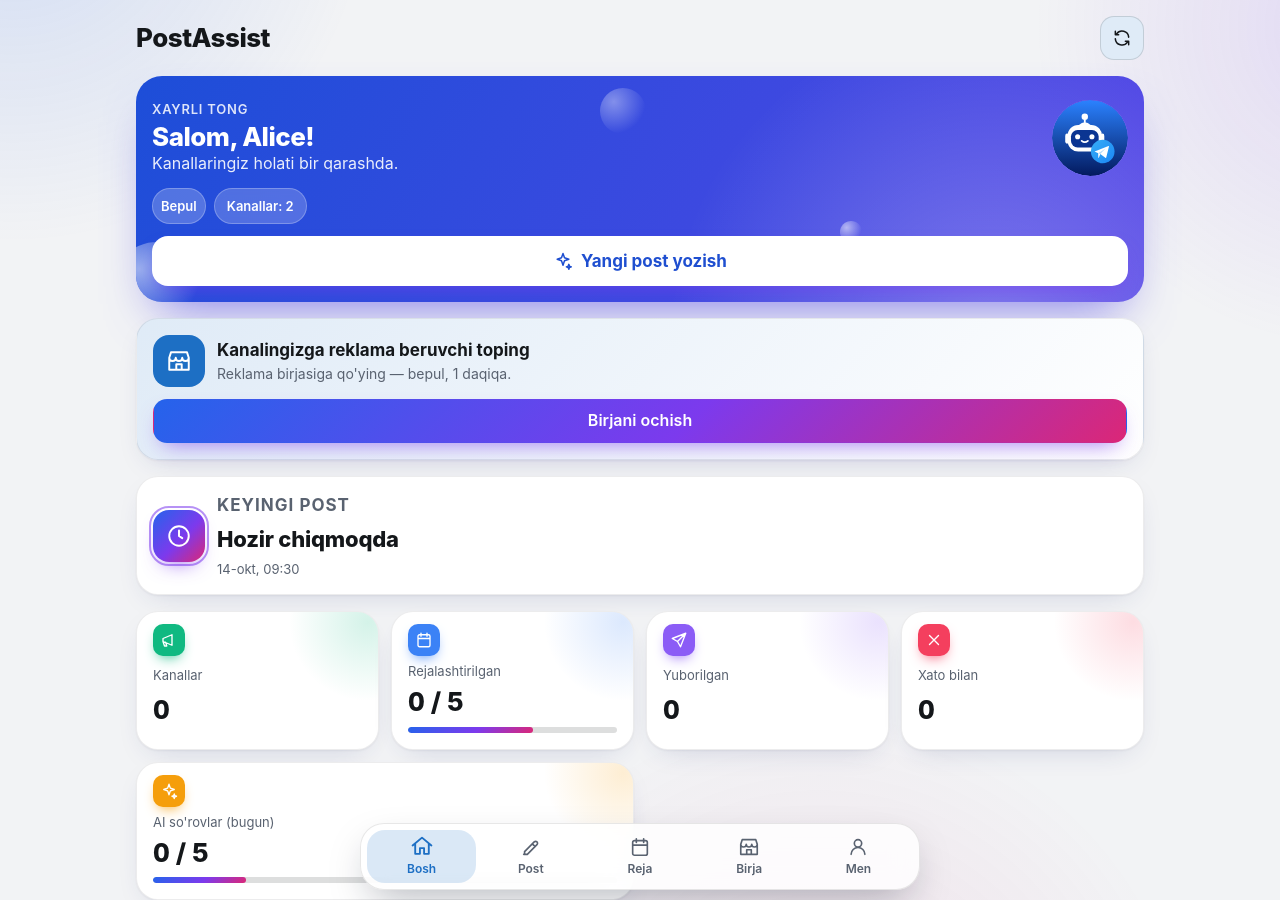
Test: Profil sahifasi › Tarif alohida ekranda: davr tanlanadi, PRO va ULTRA kartalarida HAQIQIY limitlar, narx va tejam; botda sotib olish
Check: the heading "Salom, Alice!" is shown, box [152,121,314,152]
Click the button "Men". click: (858, 856)
box: [804,830,913,883]
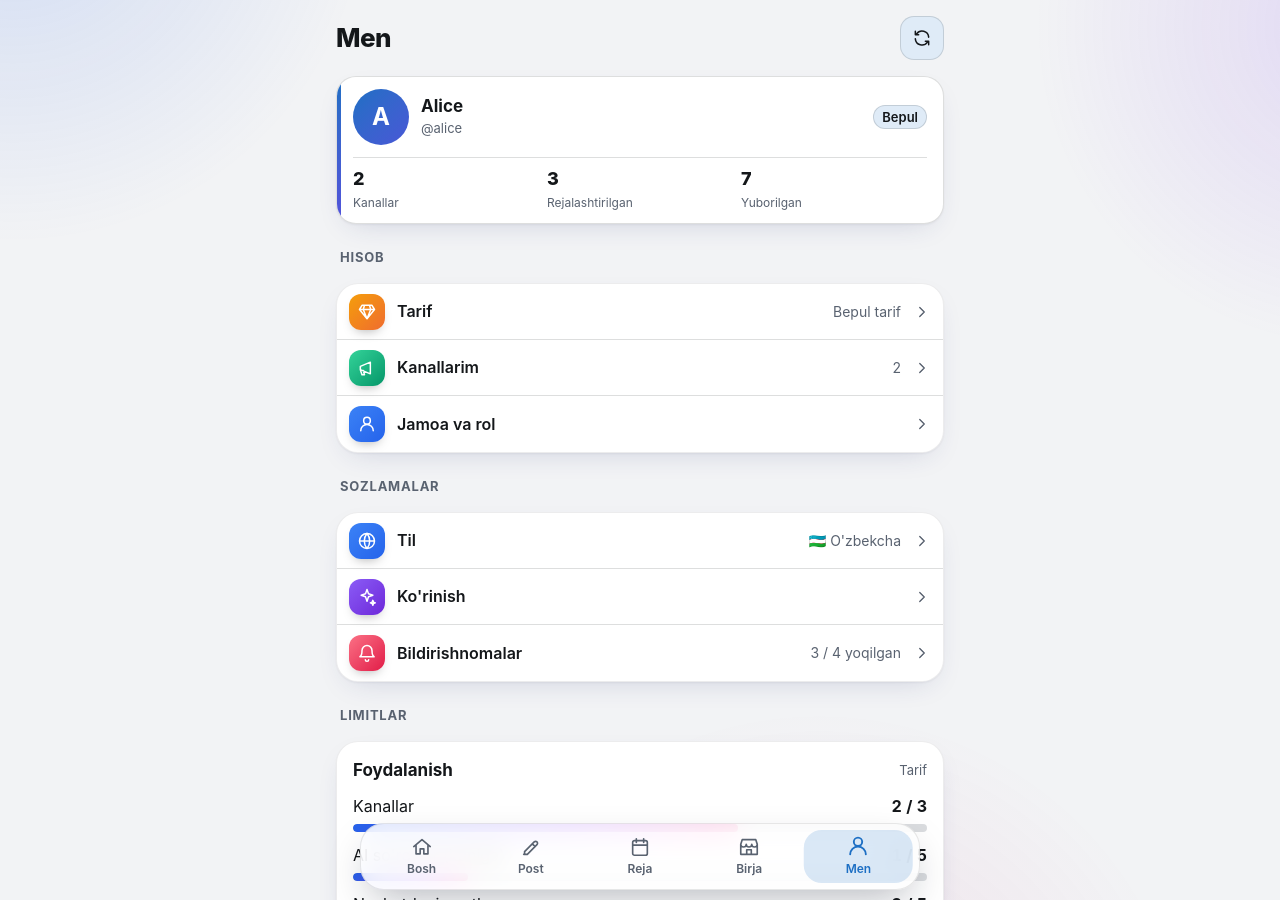
Click the button "Tarif Bepul tarif". click: (367, 312)
box: [337,284,943,340]
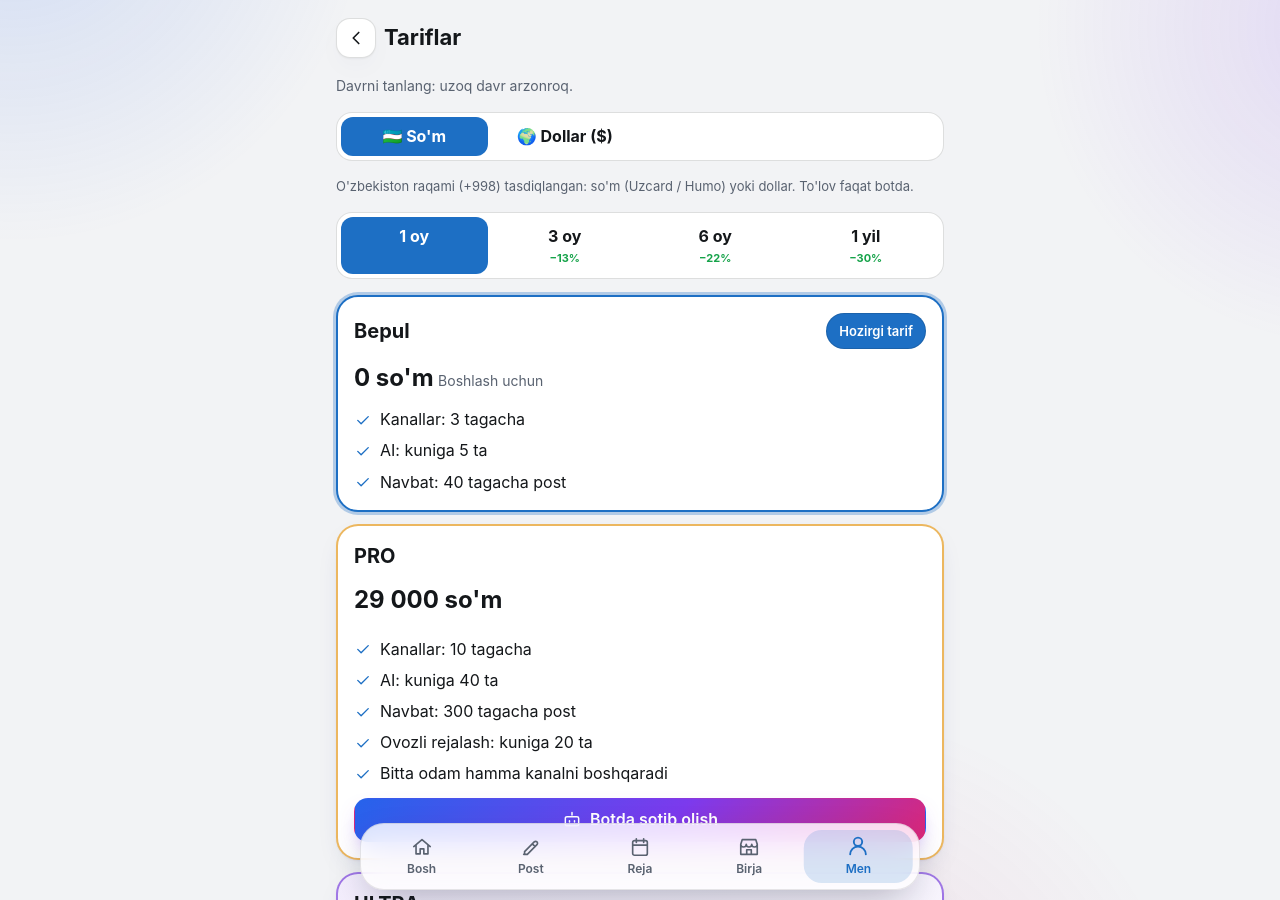
Check: the heading "Tariflar" is shown, box [384,22,461,54]
Check: the heading "PRO" is shown, box [354,542,396,571]
Check: the text "Kanallar: 10 tagacha" is shown, box [380,638,532,661]
Click the button "1 yil −30%". click: (866, 246)
box: [792,217,939,274]
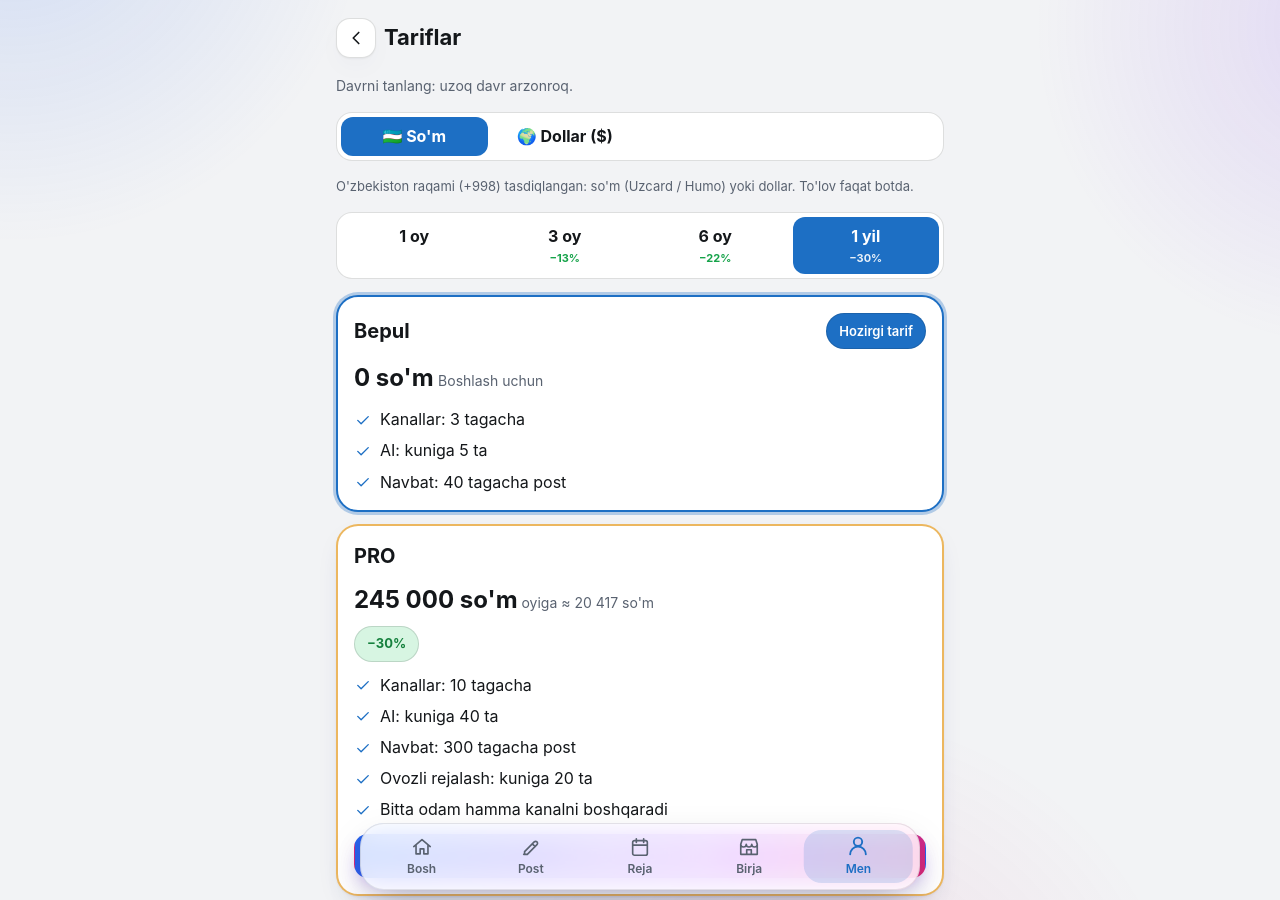
Check: the text "1650 Stars" is not shown
Check: the 1st text "−30%" is shown, box [849,250,882,266]
Check: the text "245 000 so'm" is shown, box [354,585,518,614]
Click the button "🌍 Dollar ($)". click: (565, 137)
box: [492,117,638,156]
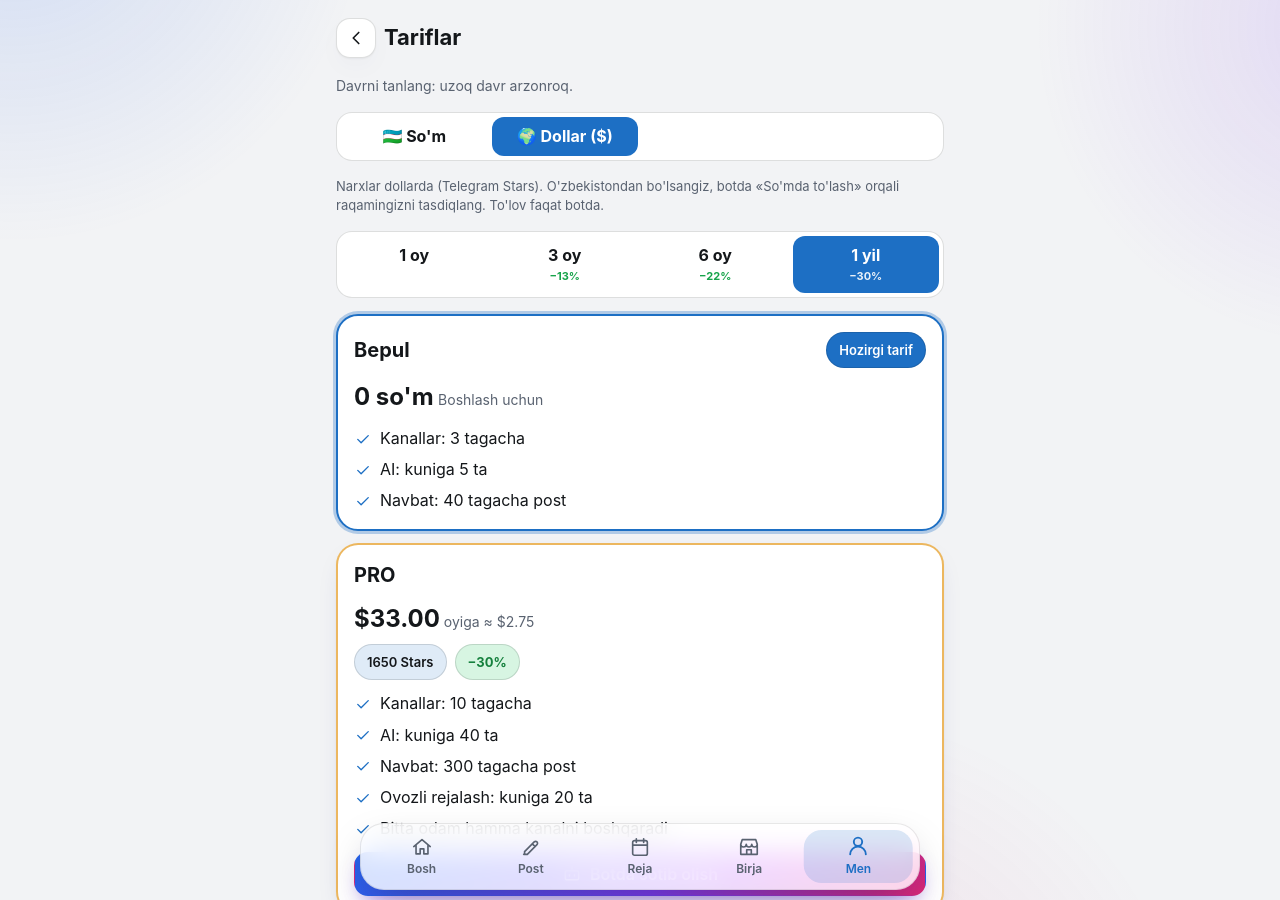
Check: the text "$33.00" is shown, box [354,604,440,633]
Check: the text "1650 Stars" is shown, box [354,644,446,680]
Check: the text "245 000 so'm" is gone
Click the button named "Orqaga". click: (356, 38)
box: [336,18,376,58]
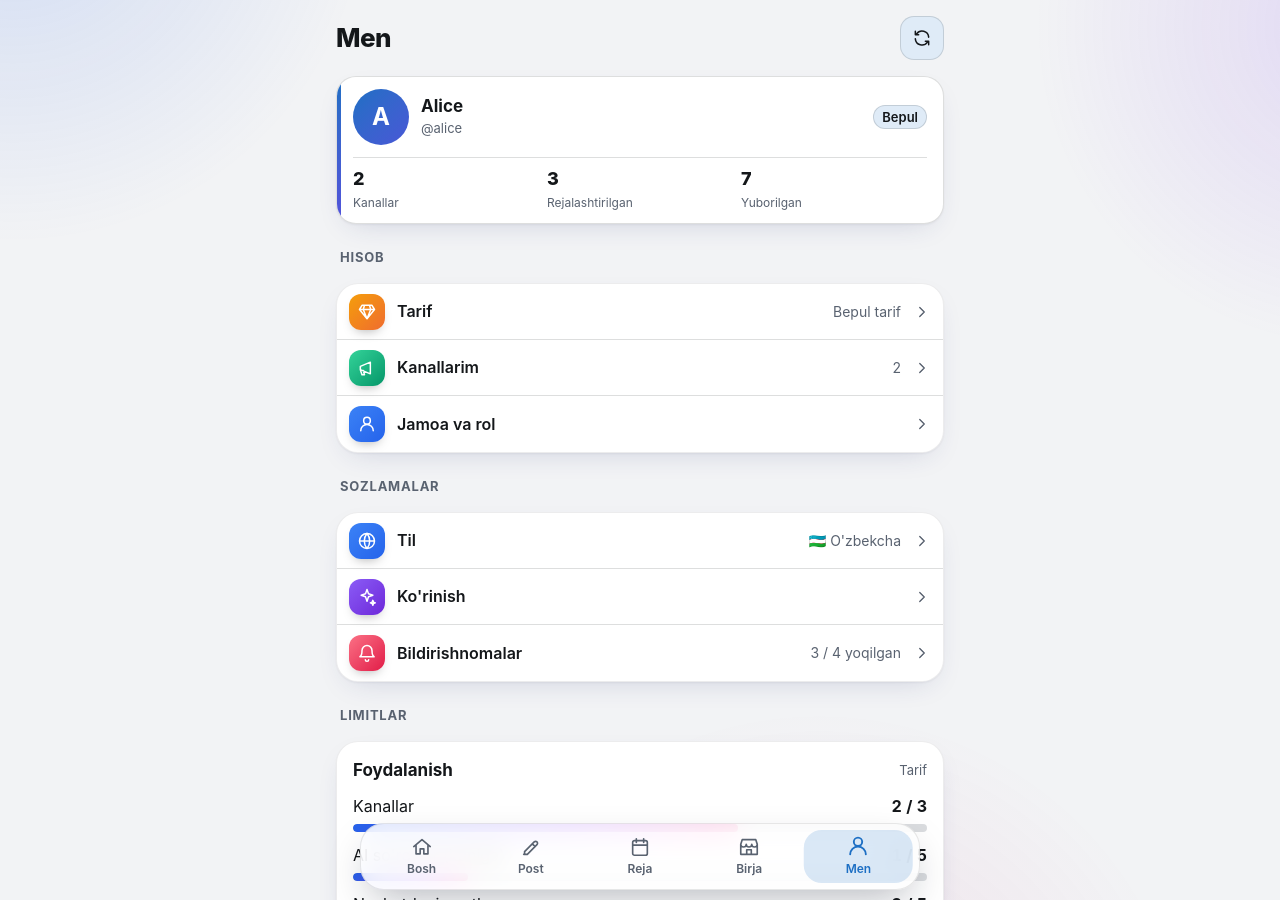
Check: the text "@alice" is shown, box [421,120,462,136]
